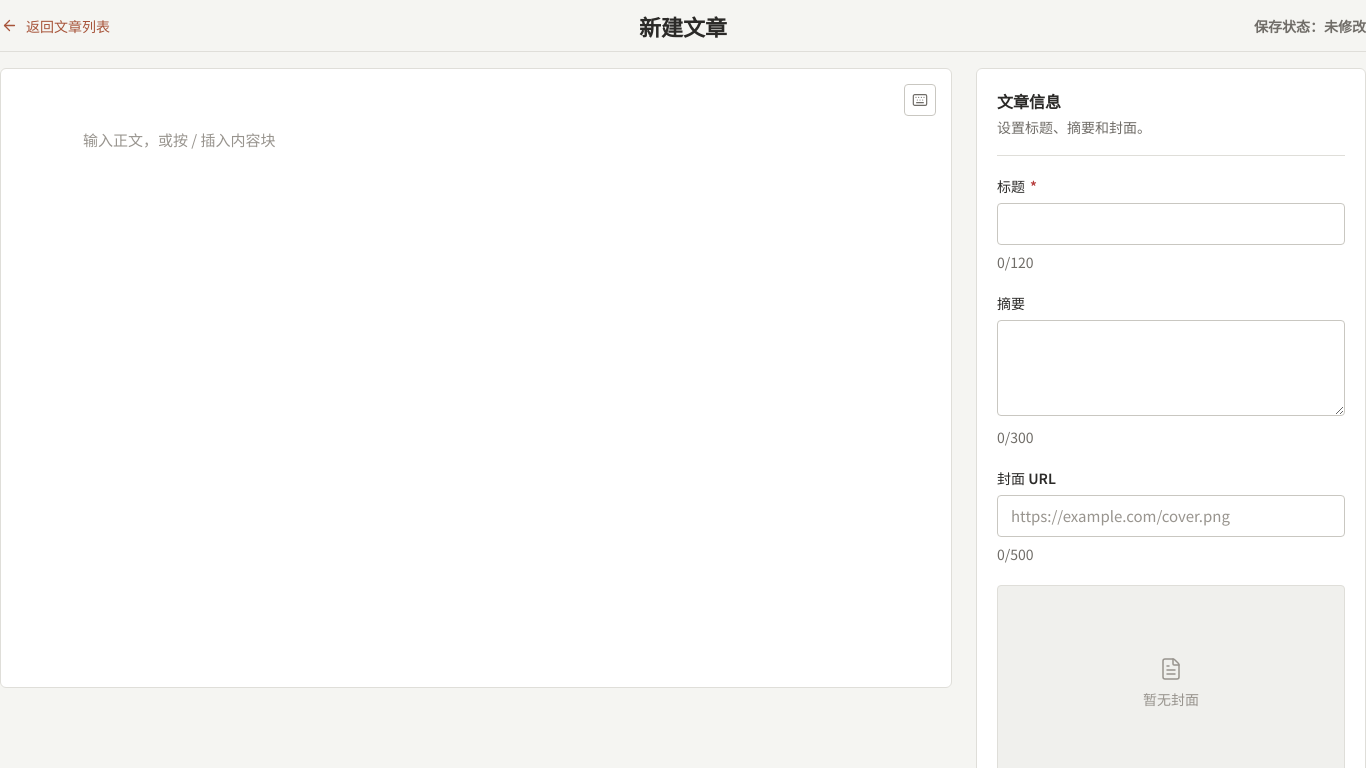
后台文章编辑页 › 正文为空时不应发送保存请求
Type "新文章" into the field labelled "标题".
click(1171, 224); type("新文章")  # box [998,204,1344,244]
(page scrolled)
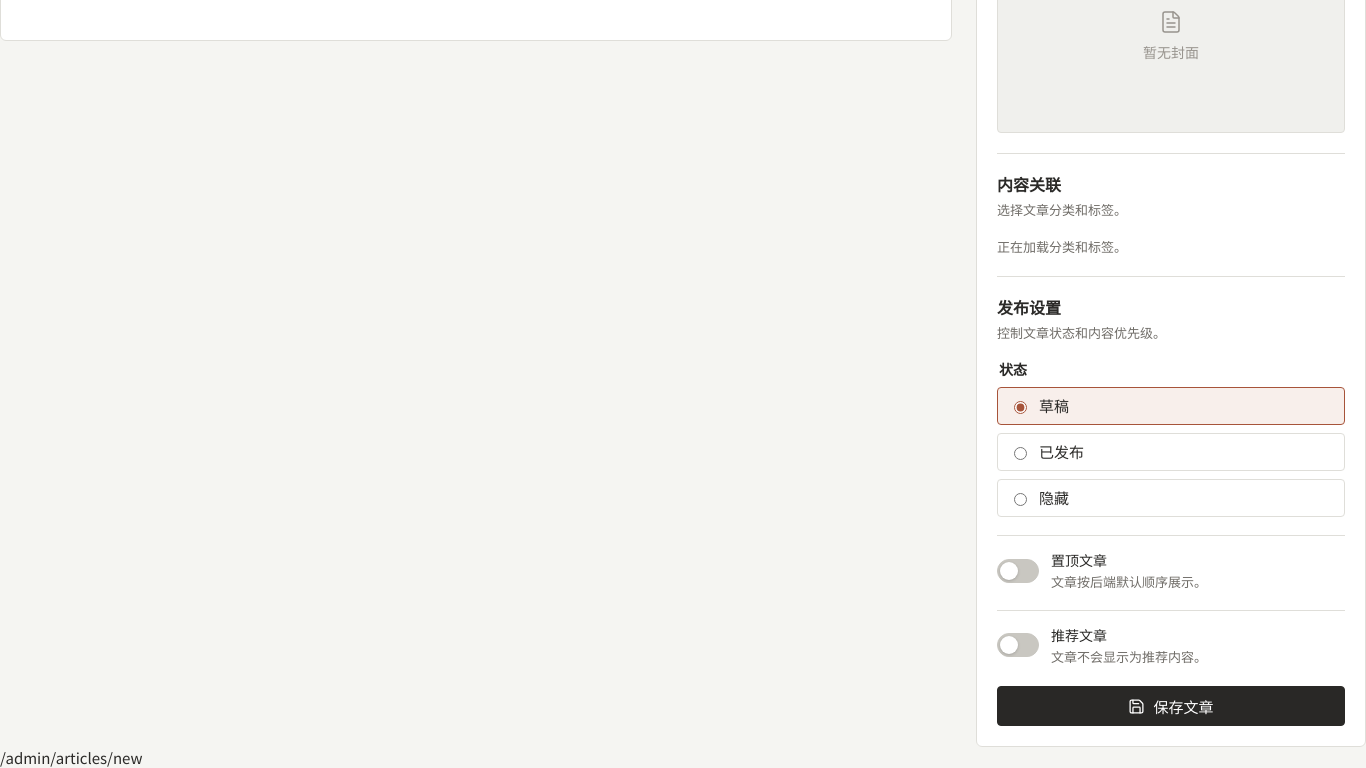
Click the button "保存文章".
click(1171, 706)  # box [997,686,1345,726]
(page scrolled)
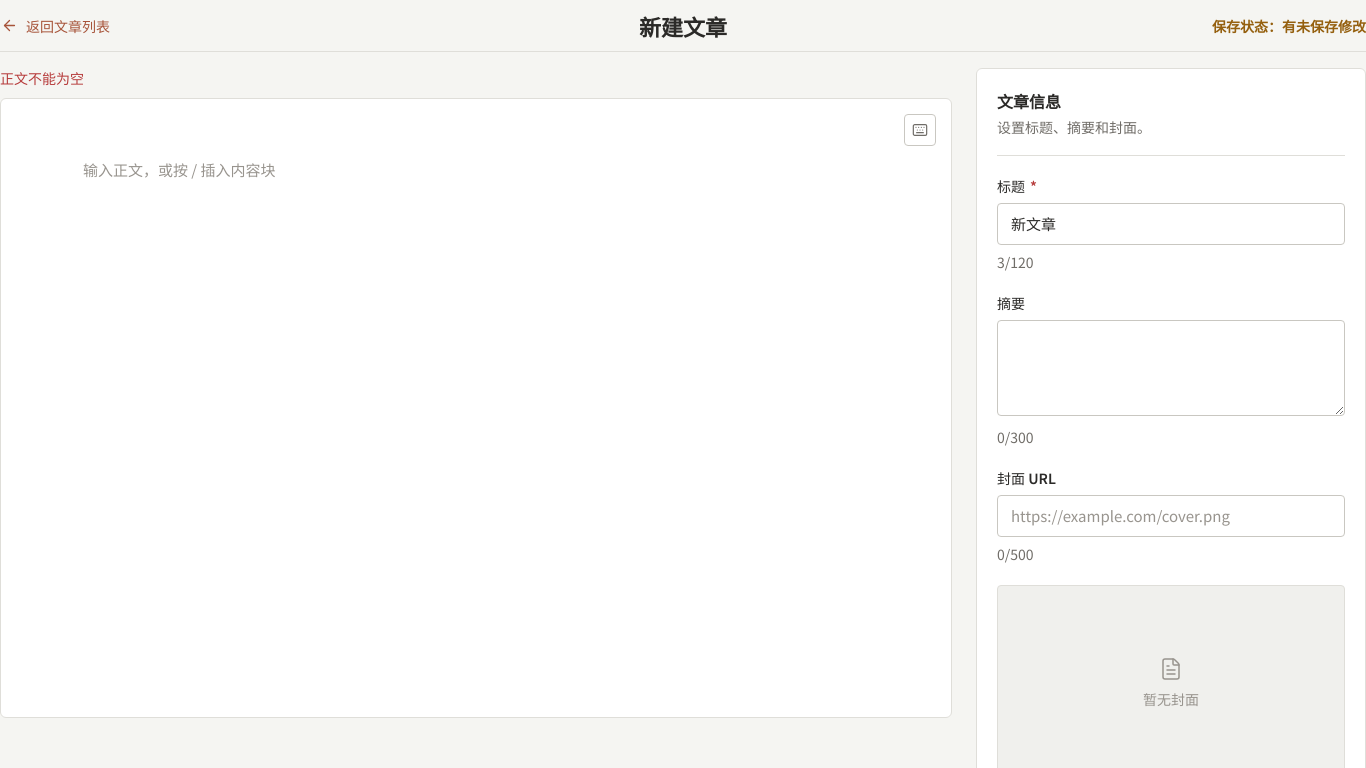
expect the text "正文不能为空" is shown: met, box [0,68,84,88]
